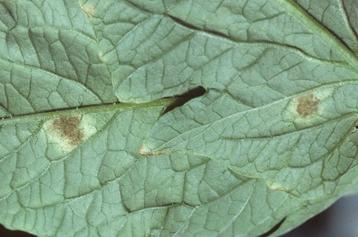Tomato mold leaf: (0, 0, 358, 237), (11, 0, 358, 199)
